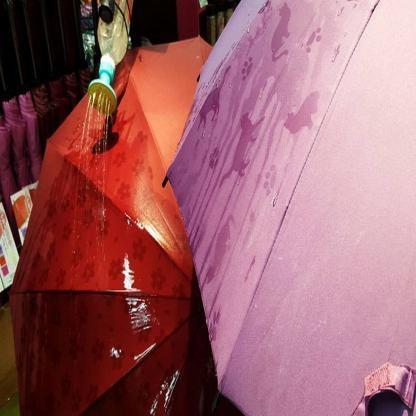Umbrella: (158, 0, 416, 415), (10, 35, 272, 415)
